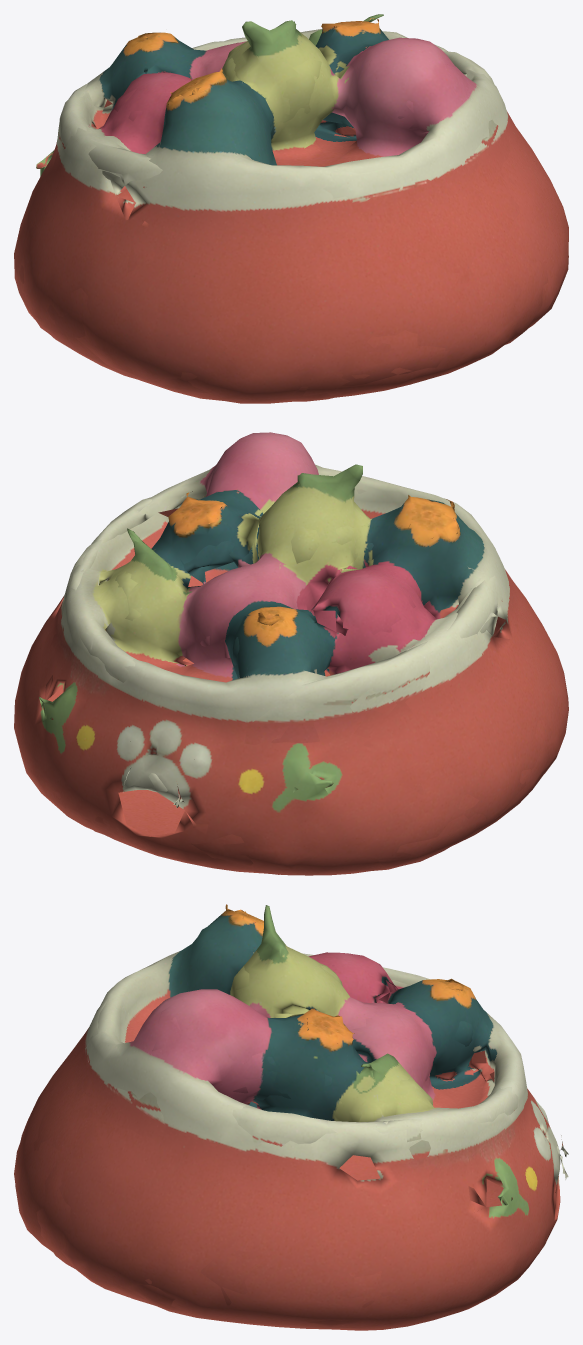
Rendered from food_bowl.glb.
3 renders of one model, top to bottom at view 1: azimuth 30°, elevation 25°; view 2: azimuth 150°, elevation 25°; view 3: azimuth 270°, elevation 25°, orthographic.
Visible parts, largest first — view 1: food_bowl; view 2: food_bowl; view 3: food_bowl.
Boxes of the visible parts, bbox=[...] form: food_bowl: bbox=[14, 14, 568, 403]; food_bowl: bbox=[14, 432, 568, 875]; food_bowl: bbox=[14, 904, 568, 1330].
Bounding box in the file's own units: 0.891 × 0.6097 × 0.9159.
1 material, 1 textured.
